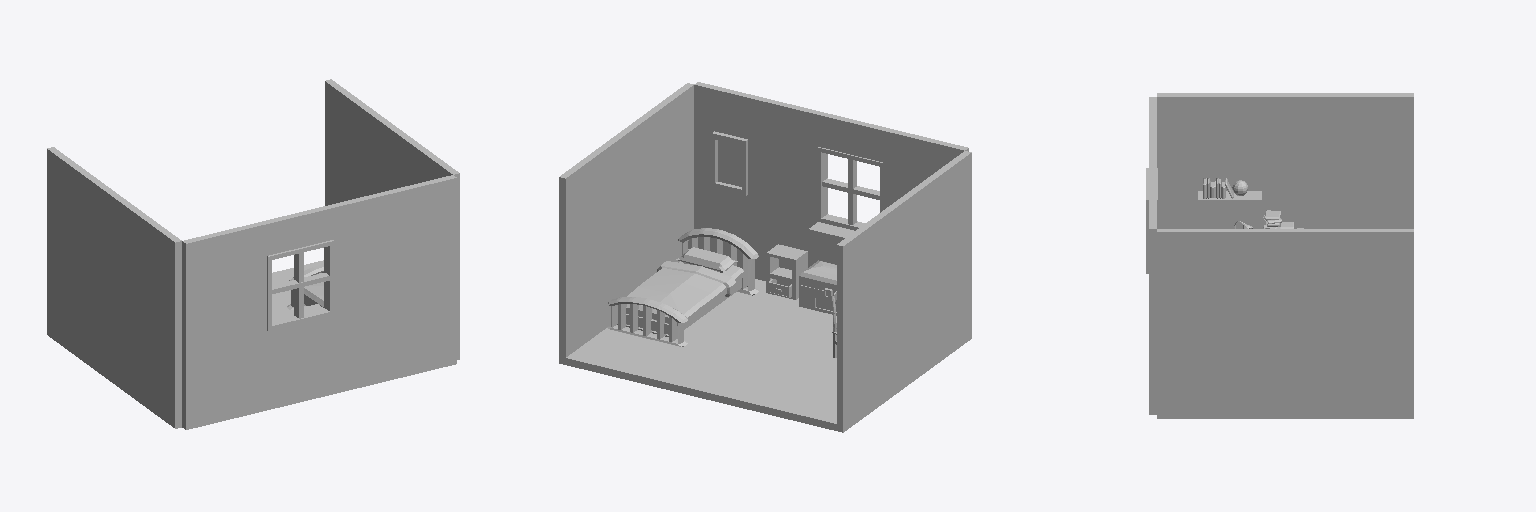
Rendered from negacionN.obj.
3 renders of one model, left to right at view 1: azimuth 30°, elevation 25°; view 2: azimuth 150°, elevation 25°; view 3: azimuth 270°, elevation 25°, orthographic.
Visible parts, largest first — view 1: Base negacionN, negacionN pCube1, negacionN pCube2; view 2: Base negacionN, negacionN Habitacion_Johnny__2_:HabJohnny Habitacion_Johnny__2_:, negacionN Environment___3_:Cama2 Environment___3_:pCube9, negacionN Environment___3_:Cama2 Environment___3_:pCylinder32, negacionN Environment___3_:pCylinder12 Environment___3_:Cama2, negacionN pCube4, negacionN pCube1, negacionN Environment___3_:Cama2 Environment___3_:pCube10, negacionN pCube2; view 3: Base negacionN, negacionN group2 Habitacion_Johnny__2_:Estanteria Habitacion_Joh.
Part boxes in pixels (left/top/right/bottom): Base negacionN: left=47, top=79, right=459, bottom=429; negacionN pCube1: left=267, top=240, right=333, bottom=330; negacionN pCube2: left=294, top=252, right=303, bottom=318; Base negacionN: left=559, top=82, right=971, bottom=432; negacionN Habitacion_Johnny__2_:HabJohnny Habitacion_Johnny__2_:: left=712, top=131, right=836, bottom=357; negacionN Environment___3_:Cama2 Environment___3_:pCube9: left=626, top=261, right=744, bottom=326; negacionN Environment___3_:Cama2 Environment___3_:pCylinder32: left=607, top=297, right=687, bottom=346; negacionN Environment___3_:pCylinder12 Environment___3_:Cama2: left=678, top=228, right=758, bottom=295; negacionN pCube4: left=766, top=244, right=807, bottom=299; negacionN pCube1: left=818, top=147, right=883, bottom=230; negacionN Environment___3_:Cama2 Environment___3_:pCube10: left=676, top=247, right=737, bottom=272; negacionN pCube2: left=848, top=159, right=856, bottom=224; Base negacionN: left=1149, top=93, right=1413, bottom=418; negacionN group2 Habitacion_Johnny__2_:Estanteria Habitacion_Joh: left=1198, top=178, right=1293, bottom=228.
Bounding box in the file's own units: 59.8 × 37.44 × 48.71.